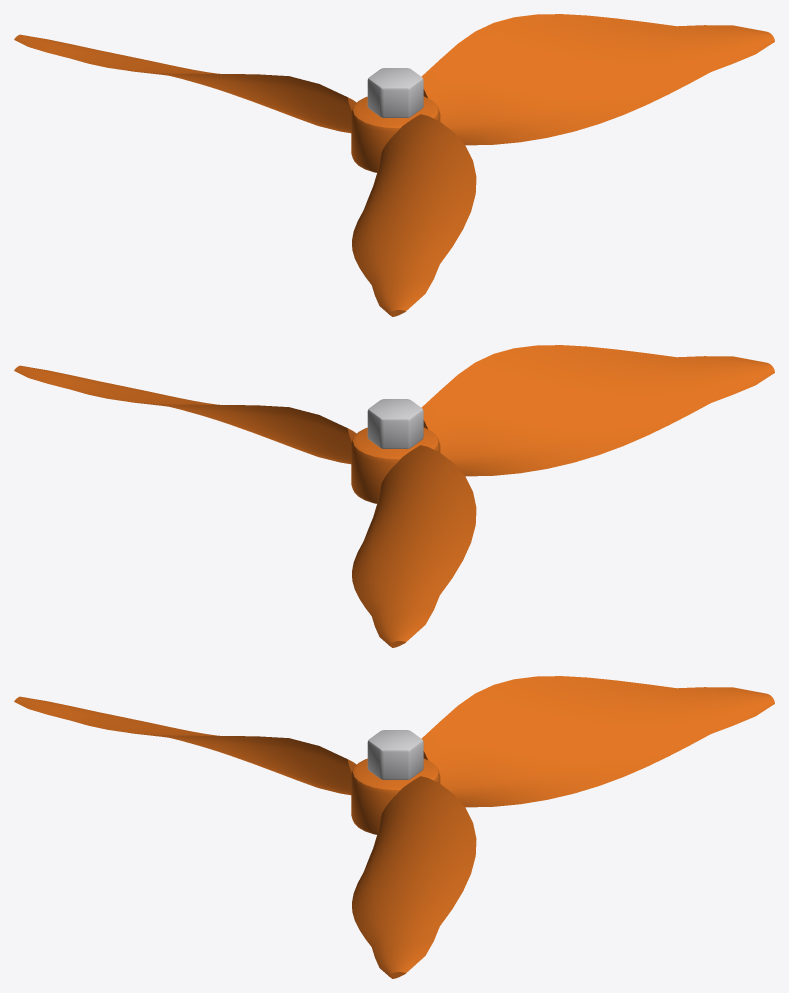
The model's file is SM_FPVDrone_Prop_CCW.fbx.
3 renders of one model, top to bottom at view 1: azimuth 30°, elevation 25°; view 2: azimuth 150°, elevation 25°; view 3: azimuth 270°, elevation 25°, orthographic.
Visible parts, largest first — view 1: SM_FPVDrone_Prop_CCW; view 2: SM_FPVDrone_Prop_CCW; view 3: SM_FPVDrone_Prop_CCW.
Boxes of the visible parts, x1=… form: SM_FPVDrone_Prop_CCW: x1=14, y1=14, x2=774, y2=316; SM_FPVDrone_Prop_CCW: x1=14, y1=345, x2=774, y2=647; SM_FPVDrone_Prop_CCW: x1=14, y1=676, x2=774, y2=978.
Bounding box in the file's own units: 0.097 × 0.013 × 0.1112.
